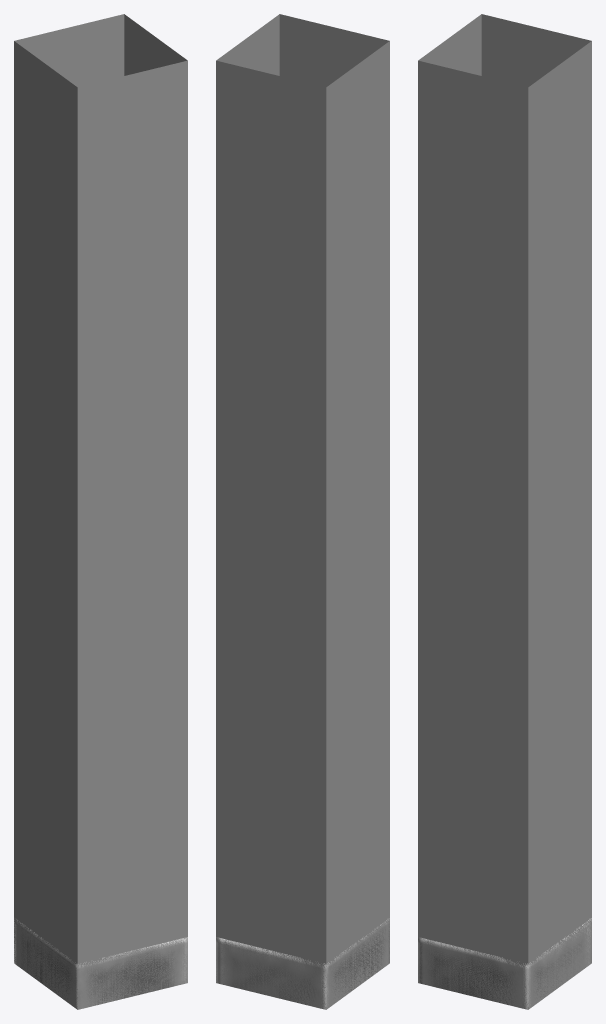
Rendered from stonemonument04.fbx.
The picture shows the model from 3 angles, left to right: view 1: azimuth 30°, elevation 25°; view 2: azimuth 150°, elevation 25°; view 3: azimuth 330°, elevation 25°; orthographic projection.
Parts seen in each view (by area): view 1: col_w, mdl_LOD0, col_o; view 2: col_w, mdl_LOD0, col_o; view 3: col_w, mdl_LOD0, col_o.
Boxes of the visible parts, bbox=[...] form: col_w: bbox=[14, 14, 187, 1009]; mdl_LOD0: bbox=[14, 917, 187, 1009]; col_o: bbox=[14, 918, 187, 1009]; col_w: bbox=[216, 14, 389, 1008]; mdl_LOD0: bbox=[216, 918, 389, 1009]; col_o: bbox=[216, 917, 389, 1009]; col_w: bbox=[418, 14, 591, 1008]; mdl_LOD0: bbox=[418, 918, 591, 1009]; col_o: bbox=[418, 917, 591, 1009].
Size of what is drawn, in the model's own units: 100 by 800 by 100.
